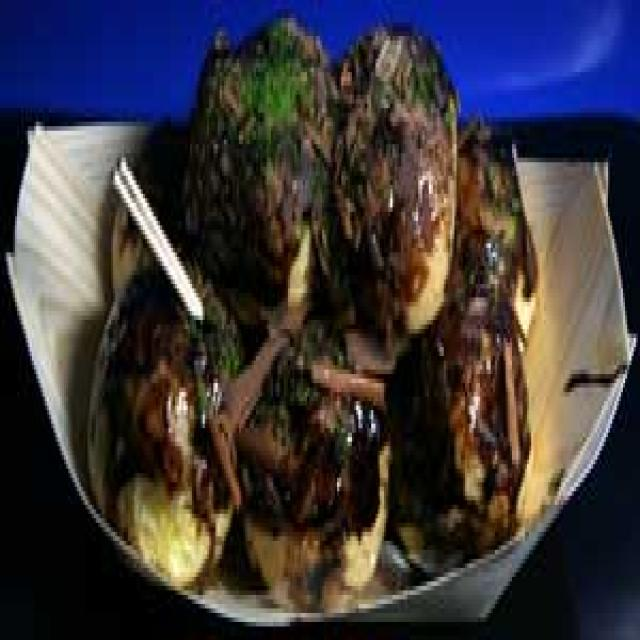炸货点心: (70, 0, 544, 640)
